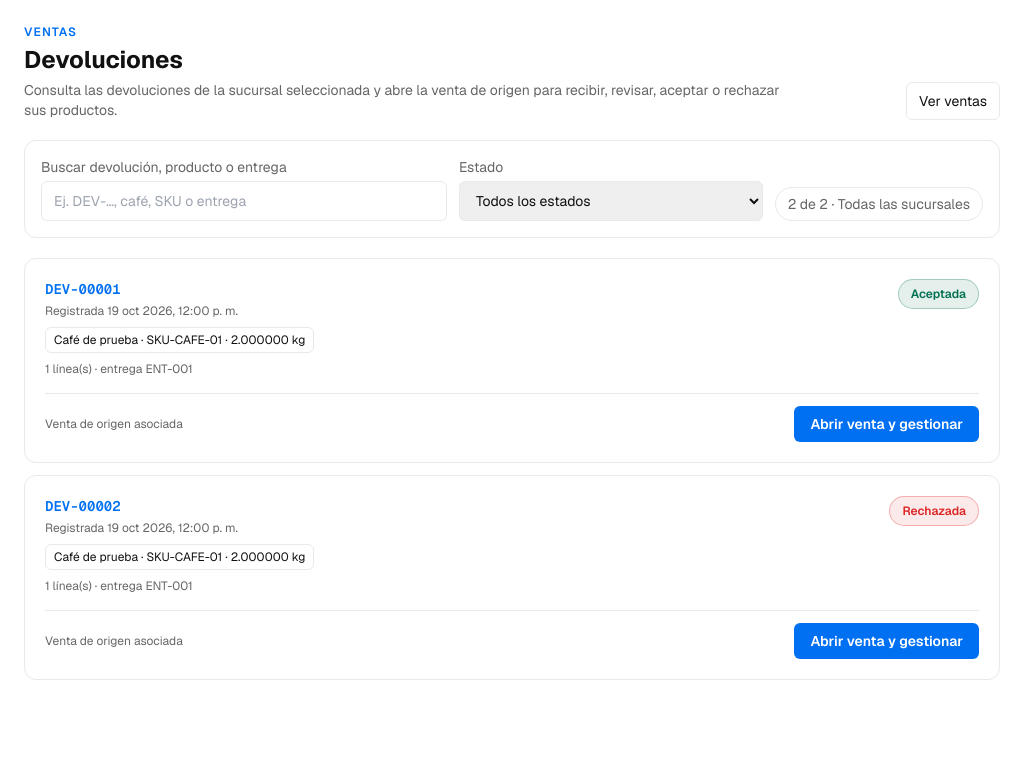
Test: SalesReturnsList › diferencia visualmente los estados y anuncia los resultados filtrados
expect the text "DEV-00002" is shown: met, box [45,497,121,515]
Type "NO-EXISTE" into the field labelled "Buscar devolución, producto o entrega" at (244, 201), box [41,181,447,221]
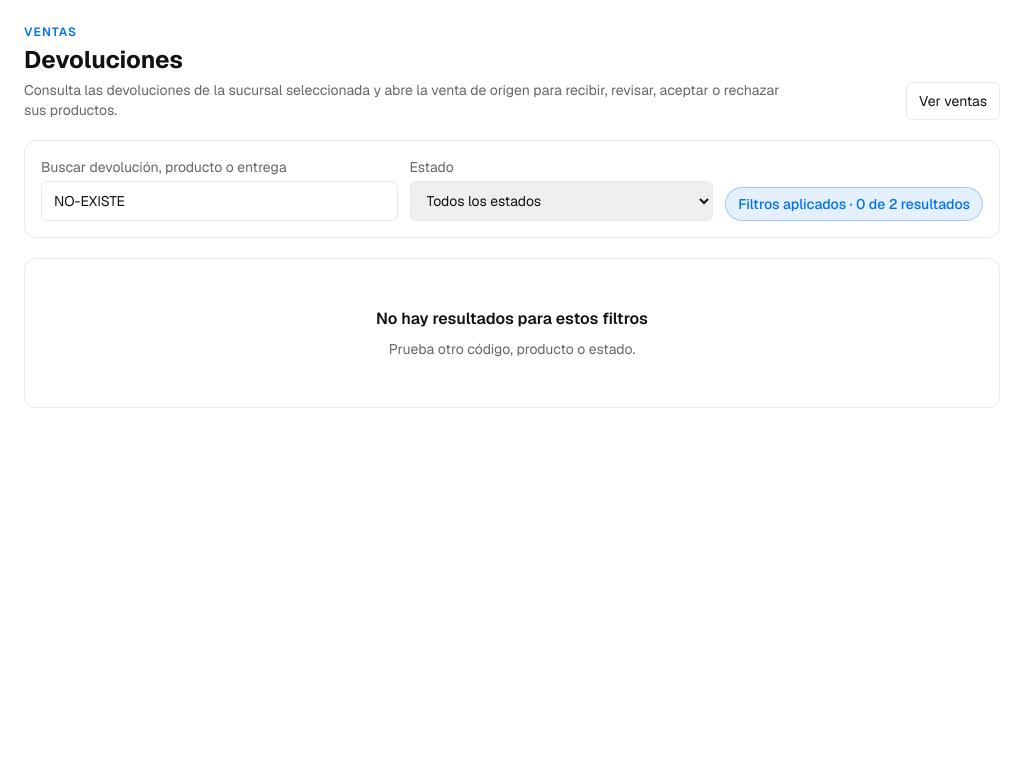
expect the message reads "Filtros aplicados · 0 de 2 resultados": met, box [738,195,970,213]
expect the heading "No hay resultados para estos filtros" is shown: met, box [376,308,648,329]
